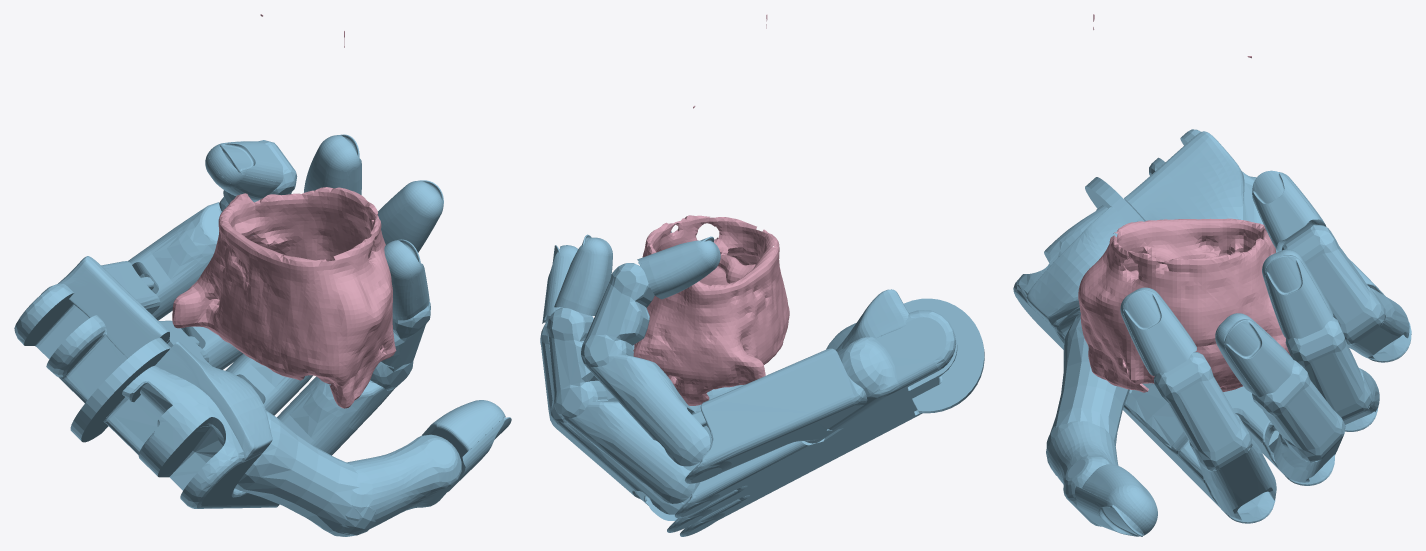
3 views of the same model, side by side, from view 1: azimuth 30°, elevation 25°; view 2: azimuth 150°, elevation 25°; view 3: azimuth 270°, elevation 25° (orthographic). The views are drawn at different scales.
Visible parts, largest first — view 1: hand, world; view 2: hand, world; view 3: hand, world.
Boxes of the visible parts, x1=… form: hand: x1=14, y1=134, x2=511, y2=536; world: x1=172, y1=14, x2=396, y2=408; hand: x1=540, y1=231, x2=984, y2=536; world: x1=633, y1=14, x2=789, y2=405; hand: x1=1013, y1=129, x2=1411, y2=536; world: x1=1078, y1=14, x2=1290, y2=392.
Size of the model in its own units: 0.157 by 0.1772 by 0.1264.
